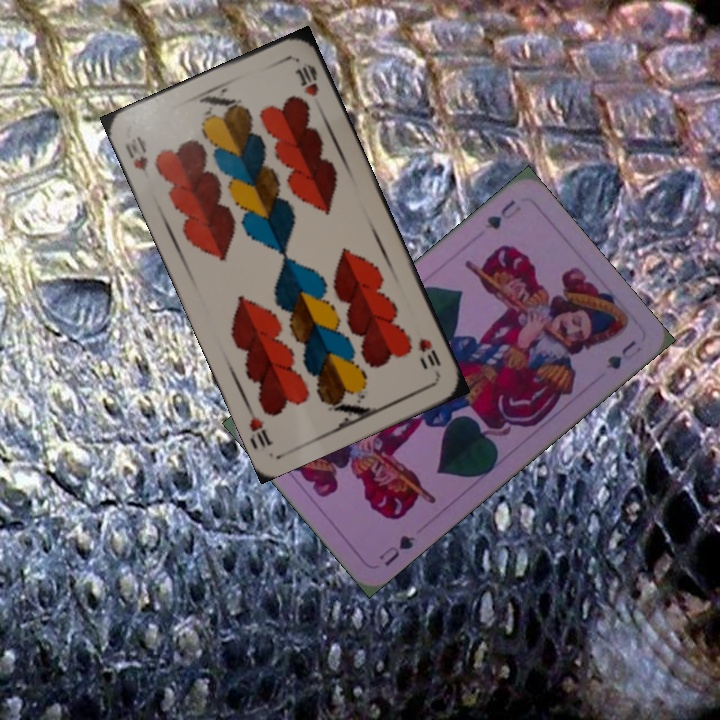GU: (375, 530, 418, 570), (481, 195, 524, 233)
H10: (120, 132, 151, 182), (413, 334, 444, 378)
